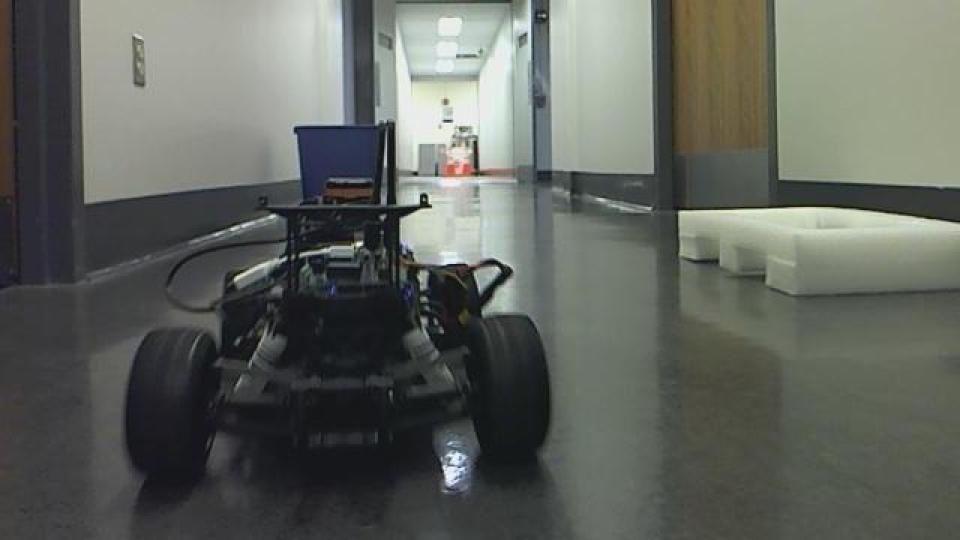car: (120, 189, 554, 489)
